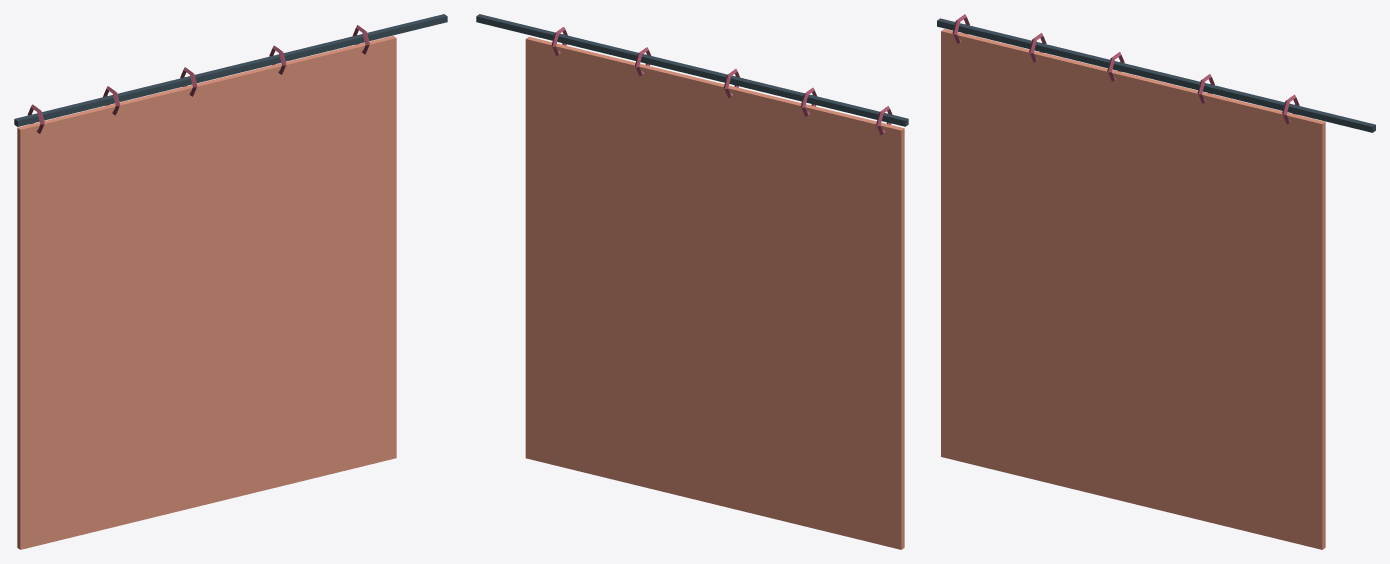
File: showercurtain_closed.fbx
The picture shows the model from 3 angles, left to right: view 1: azimuth 30°, elevation 25°; view 2: azimuth 150°, elevation 25°; view 3: azimuth 330°, elevation 25°; orthographic projection.
Parts seen in each view (by area): view 1: pCube3, pCube2; view 2: pCube3, pCube2; view 3: pCube3, pCube2.
Boxes of the visible parts, x1=… form: pCube3: x1=17, y1=36, x2=396, y2=549; pCube2: x1=14, y1=14, x2=447, y2=126; pCube3: x1=525, y1=36, x2=904, y2=549; pCube2: x1=476, y1=14, x2=908, y2=126; pCube3: x1=941, y1=29, x2=1325, y2=549; pCube2: x1=937, y1=18, x2=1375, y2=132.
Size of the model in its own units: 3.86 by 3.75 by 0.24.
